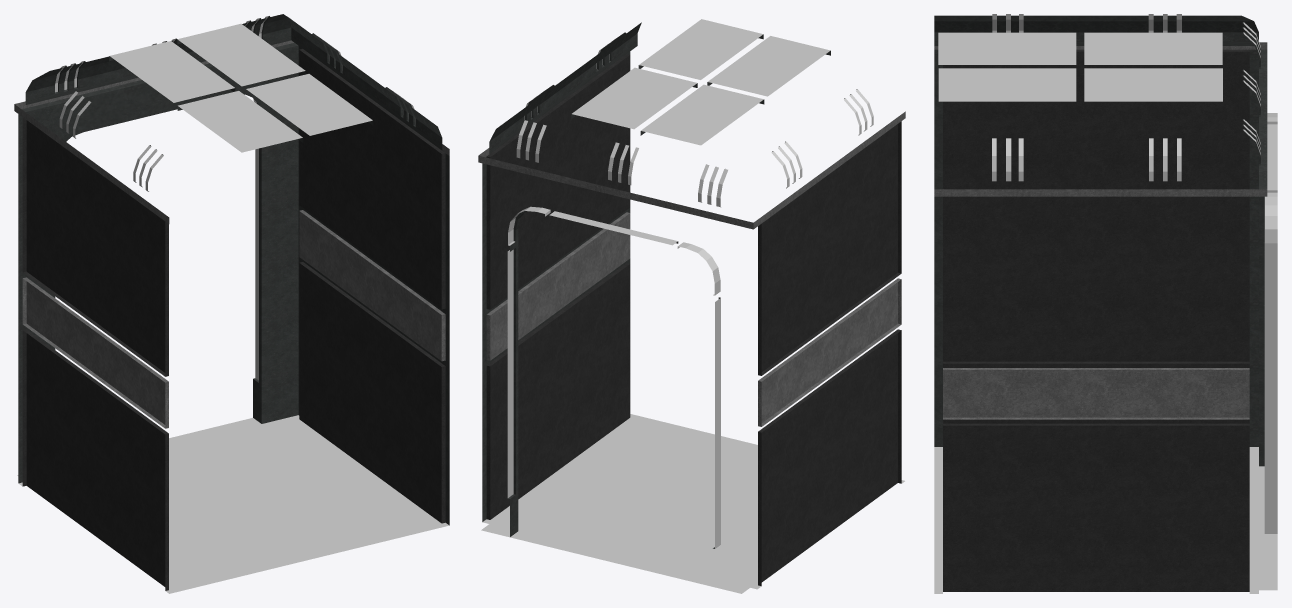
Rendered from StraightCeilingEndcap.fbx.
3 views of the same model, side by side, from view 1: azimuth 30°, elevation 25°; view 2: azimuth 150°, elevation 25°; view 3: azimuth 270°, elevation 25° (orthographic). The views are drawn at different scales.
Parts seen in each view (by area): view 1: Cube.004, Cube.022, Cube.016, Cube.011, Cube.029; view 2: Cube.004, Cube.022, Cube.011, Cube.029, Cube.016; view 3: Cube.004, Cube.011, Cube.029, Cube.016, Cube.022.
Part boxes in pixels (left/top/right/bottom): Cube.004: left=22, top=49, right=445, bottom=590; Cube.022: left=17, top=415, right=448, bottom=593; Cube.016: left=18, top=14, right=449, bottom=525; Cube.011: left=55, top=16, right=415, bottom=380; Cube.029: left=14, top=40, right=449, bottom=428; Cube.004: left=486, top=54, right=901, bottom=586; Cube.022: left=481, top=414, right=904, bottom=593; Cube.011: left=507, top=19, right=873, bottom=548; Cube.029: left=478, top=111, right=905, bottom=426; Cube.016: left=482, top=22, right=871, bottom=548; Cube.004: left=943, top=49, right=1249, bottom=591; Cube.011: left=938, top=14, right=1277, bottom=533; Cube.029: left=934, top=42, right=1267, bottom=419; Cube.016: left=934, top=15, right=1267, bottom=466; Cube.022: left=934, top=447, right=1277, bottom=593.
Bounding box in the file's own units: 693 × 996 × 684.
